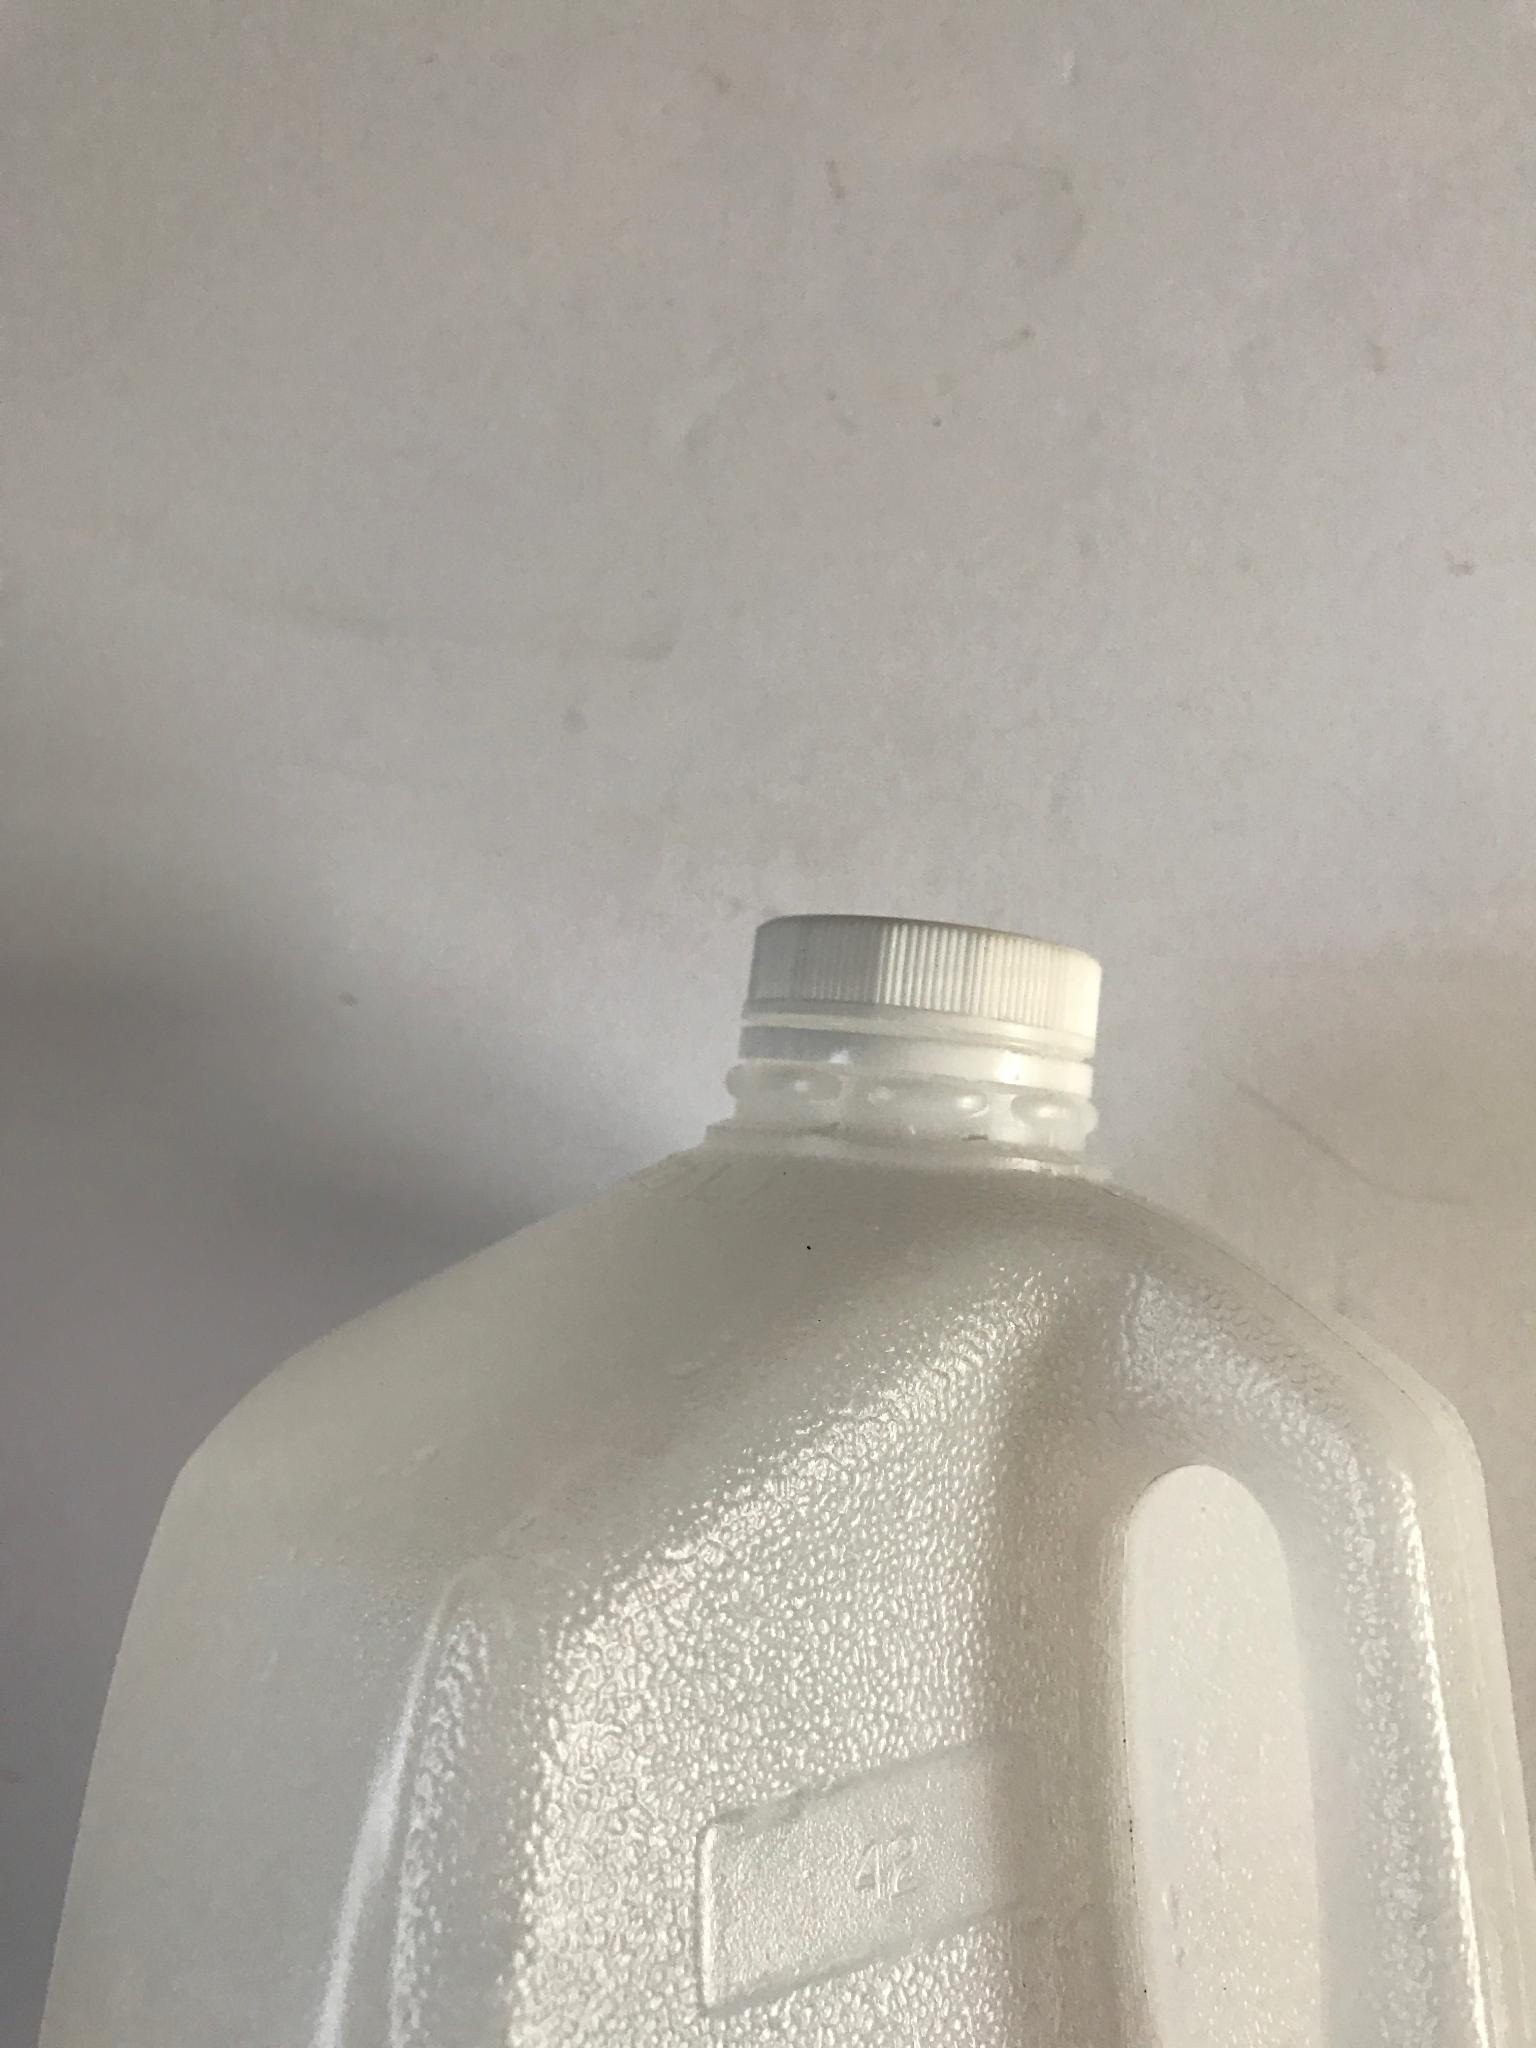Plastic: (31, 892, 1534, 2046)
